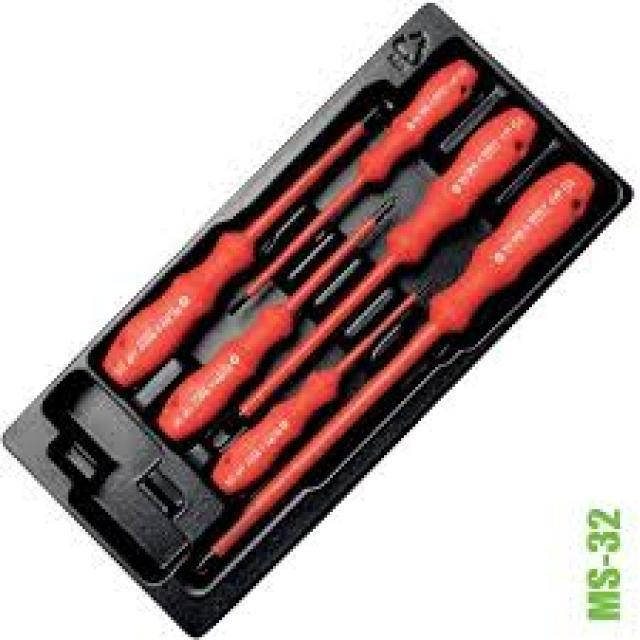screwdriver: (194, 166, 592, 584), (220, 100, 545, 440), (94, 100, 387, 402), (150, 188, 406, 452), (228, 52, 480, 320), (208, 266, 450, 494)
